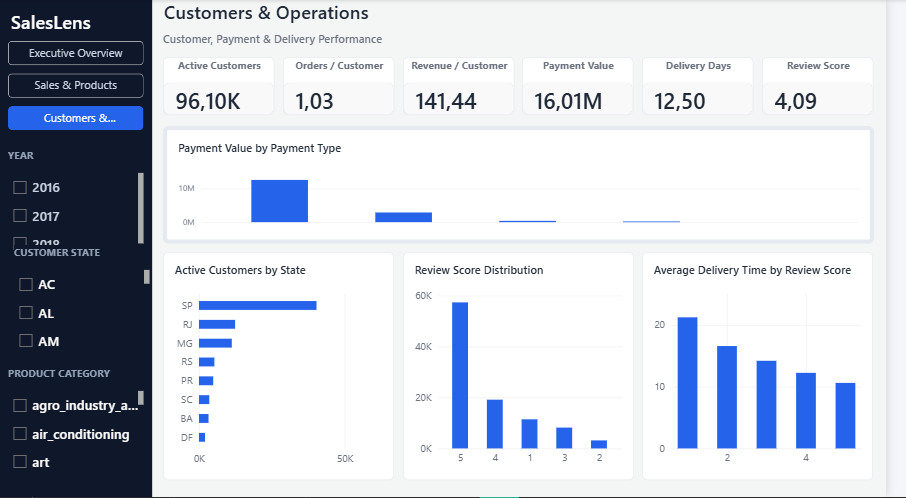

The page's visual inventory and layout, read from the dashboard file:
{"tool":"powerbi","page":{"name":"Customers & Operations","canvas":[1280,720],"ordinal":2},"visuals":[{"type":"cardVisual","title":"Review Score","fields":{"Data":["public fact_reviews.Average Review Score"]},"box":[1333.7,180,194,171.3],"z":4000},{"type":"cardVisual","title":"Delivery Days","fields":{"Data":["public fact_reviews.Average Delivery Days"]},"box":[1581,180,194,171.3],"z":5000},{"type":"clusteredColumnChart","title":"Payment Value by Payment Type","fields":{"Category":["public fact_payments.payment_type"],"Y":["public fact_reviews.Total Payment Value"]},"box":[236,184,1028,170],"z":6000},{"type":"clusteredBarChart","title":"Active Customers by State","fields":{"Category":["public dim_customer.customer_state"],"Y":["public dim_customer.Active Customers"]},"box":[236,366,334,330],"z":7000},{"type":"clusteredColumnChart","title":"Review Score Distribution","fields":{"Category":["public fact_reviews.review_score"],"Y":["public fact_reviews.Total Reviews"]},"box":[582,366,334,330],"z":8000},{"type":"clusteredColumnChart","title":"Average Delivery Time by Review Score","fields":{"Category":["public fact_reviews.review_score"],"Y":["public fact_reviews.Average Delivery Days by Review"]},"box":[928,366,334,330],"z":9000},{"type":"shape","box":[0,0,220,720],"z":10000},{"type":"slicer","title":"YEAR","fields":{"Values":["public dim_date.year"]},"box":[12,215,196,140],"z":11000},{"type":"slicer","title":"CUSTOMER STATE","fields":{"Values":["public dim_customer.customer_state"]},"box":[12,375,196,150],"z":12000},{"type":"slicer","title":"PRODUCT CATEGORY","fields":{"Values":["public dim_product.product_category_name_english"]},"box":[12,545,196,150],"z":13000},{"type":"textbox","box":[16,14,204,46],"z":14000},{"type":"pageNavigator","box":[12,60,196,130],"z":15000},{"type":"textbox","box":[236,46,600,22],"z":16000},{"type":"textbox","box":[236.7,0,321.7,46.7],"z":17000},{"type":"cardVisual","title":"Active Customers","fields":{"Data":["public dim_customer.Active Customers"]},"box":[236,84,161,84],"z":18000},{"type":"cardVisual","title":"Orders / Customer","fields":{"Data":["public dim_customer.Orders per Customer"]},"box":[409,84,161,84],"z":19000},{"type":"cardVisual","title":"Revenue / Customer","fields":{"Data":["public dim_customer.Revenue per Customer"]},"box":[582,84,161,84],"z":20000},{"type":"cardVisual","title":"Payment Value","fields":{"Data":["public fact_reviews.Total Payment Value"]},"box":[755,84,161,84],"z":21000},{"type":"cardVisual","title":"Delivery Days","fields":{"Data":["public fact_reviews.Average Delivery Days"]},"box":[928,84,161,84],"z":22000},{"type":"cardVisual","title":"Review Score","fields":{"Data":["public fact_reviews.Average Review Score"]},"box":[1101,84,161,84],"z":23000}]}

Visuals, with their boxes on the page's 1280x720 design canvas (x1, y1, x2, y2). These are canvas units, not pixel positions in the 906x498 screenshot, which may show the page scaled, cropped or inside an application window:
"Review Score" cardVisual: box=[1334, 180, 1528, 351]
"Delivery Days" cardVisual: box=[1581, 180, 1775, 351]
"Payment Value by Payment Type" clusteredColumnChart: box=[236, 184, 1264, 354]
"Active Customers by State" clusteredBarChart: box=[236, 366, 570, 696]
"Review Score Distribution" clusteredColumnChart: box=[582, 366, 916, 696]
"Average Delivery Time by Review Score" clusteredColumnChart: box=[928, 366, 1262, 696]
shape: box=[0, 0, 220, 720]
"YEAR" slicer: box=[12, 215, 208, 355]
"CUSTOMER STATE" slicer: box=[12, 375, 208, 525]
"PRODUCT CATEGORY" slicer: box=[12, 545, 208, 695]
textbox: box=[16, 14, 220, 60]
pageNavigator: box=[12, 60, 208, 190]
textbox: box=[236, 46, 836, 68]
textbox: box=[237, 0, 558, 47]
"Active Customers" cardVisual: box=[236, 84, 397, 168]
"Orders / Customer" cardVisual: box=[409, 84, 570, 168]
"Revenue / Customer" cardVisual: box=[582, 84, 743, 168]
"Payment Value" cardVisual: box=[755, 84, 916, 168]
"Delivery Days" cardVisual: box=[928, 84, 1089, 168]
"Review Score" cardVisual: box=[1101, 84, 1262, 168]
